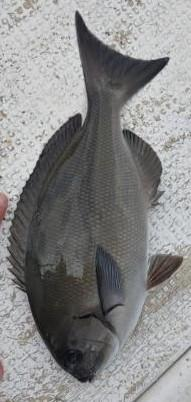fish: (5, 11, 184, 384)
